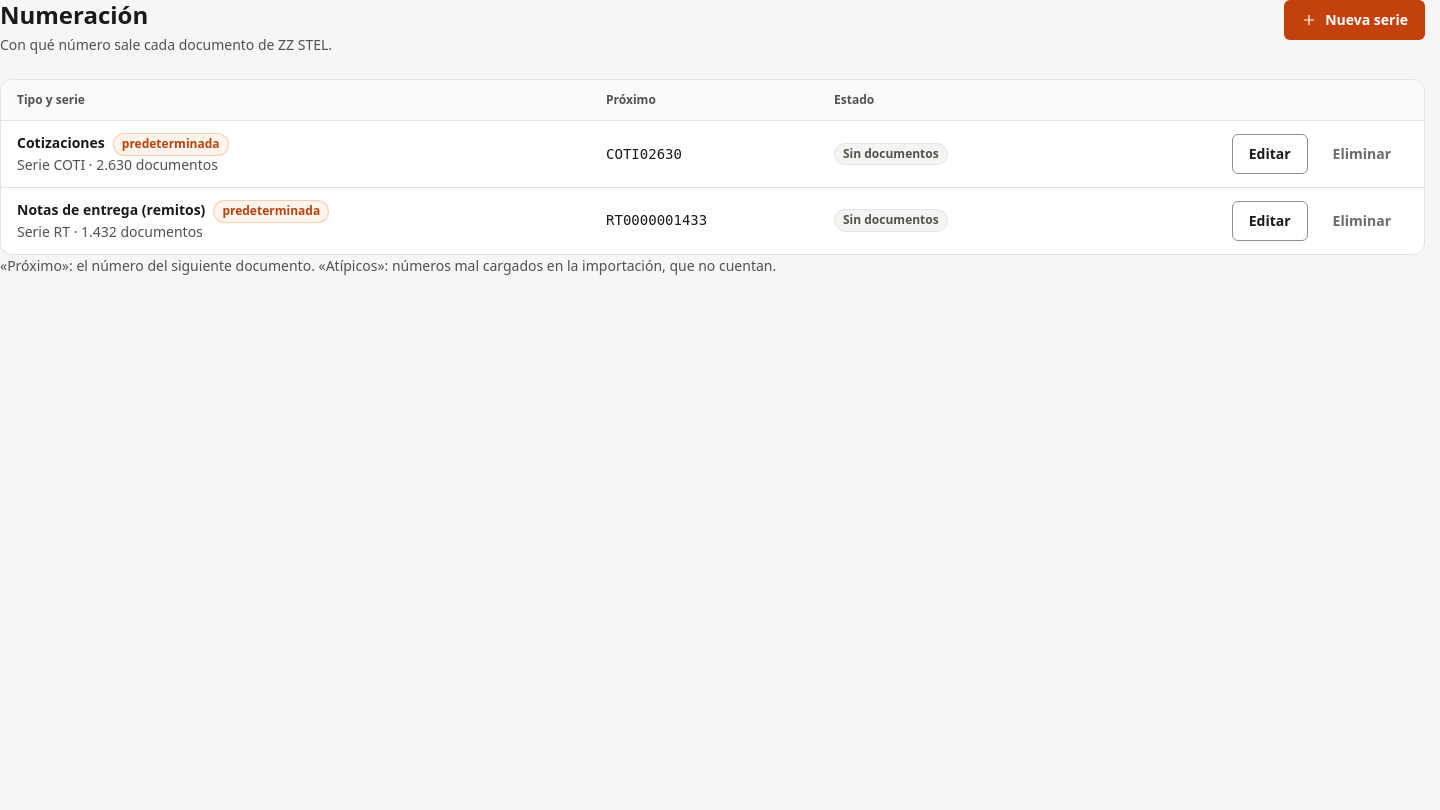
Numeración: editar (Fase 58 · E3) › si la base rechaza, se muestra su mensaje con el número ocupado
The image size is (1440, 810).
Step 1. Click the button "Editar" in the row of "Cotizaciones" → x=1270, y=154, box [1232,134,1308,174]
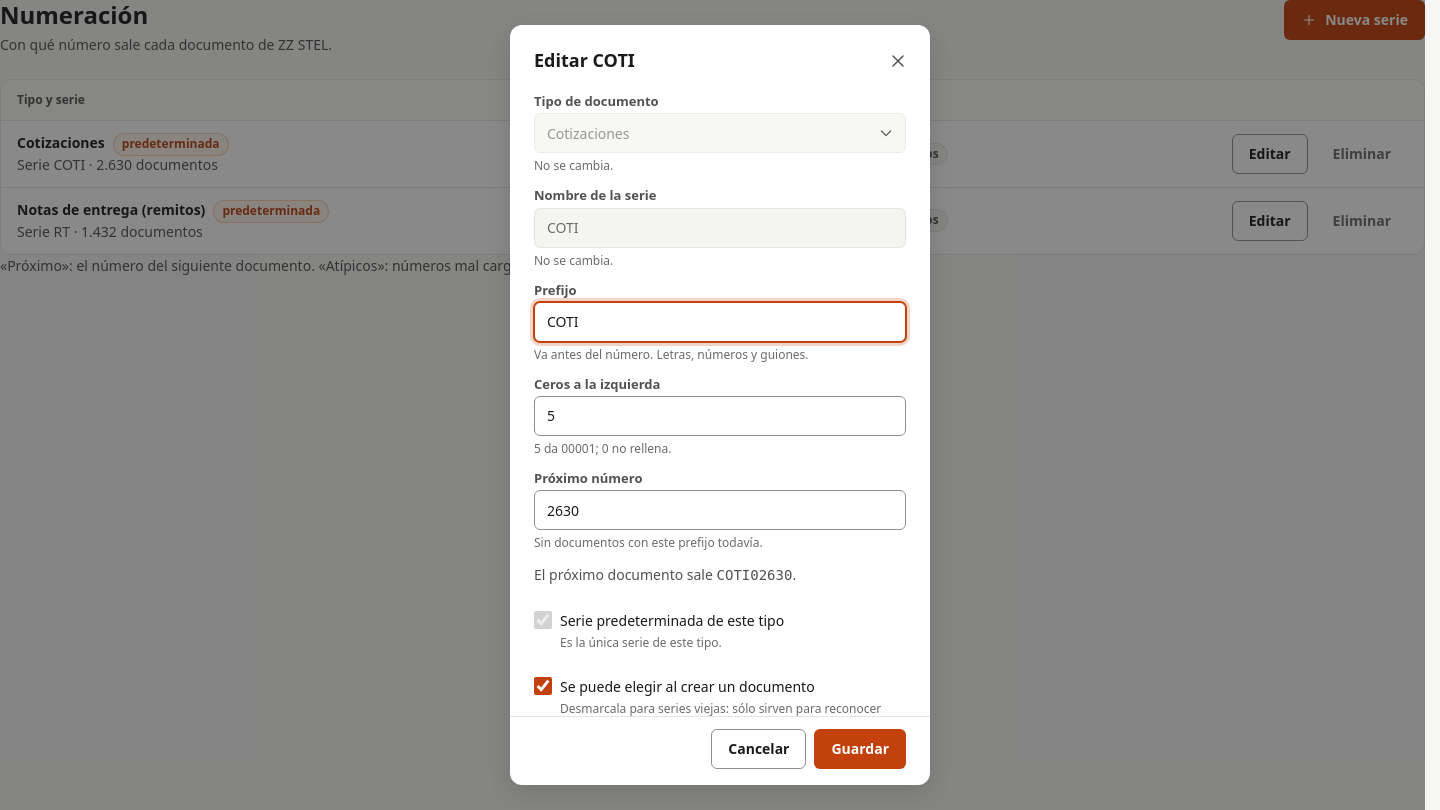
Step 2. Click the button "Guardar" → x=860, y=749, box [814,729,906,769]
(page scrolled)
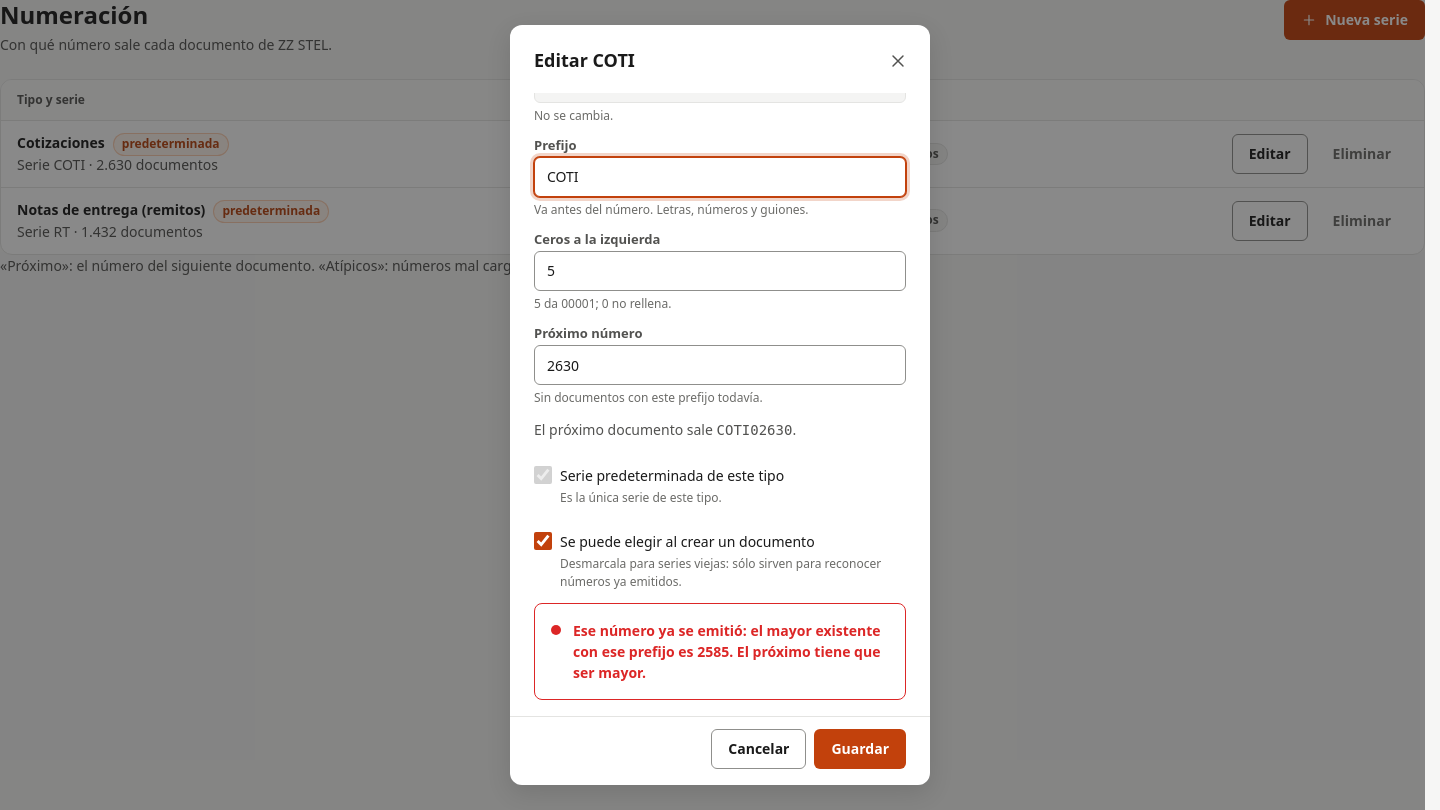
Result: the text "el mayor existente con ese prefijo es 2585" is shown at [573,621,881,682]
